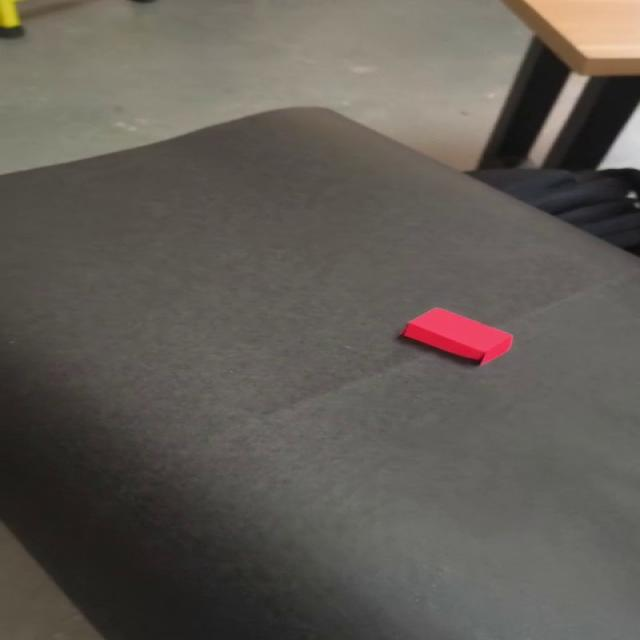red block: (399, 306, 513, 366)
